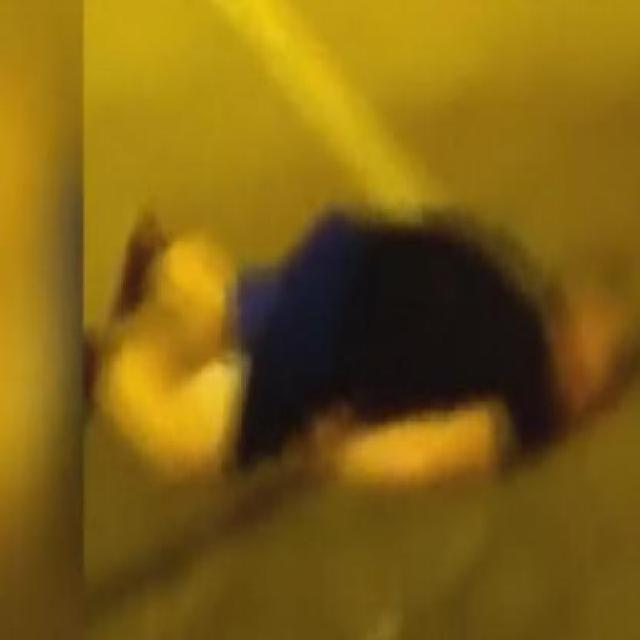fall: (87, 197, 576, 506)
